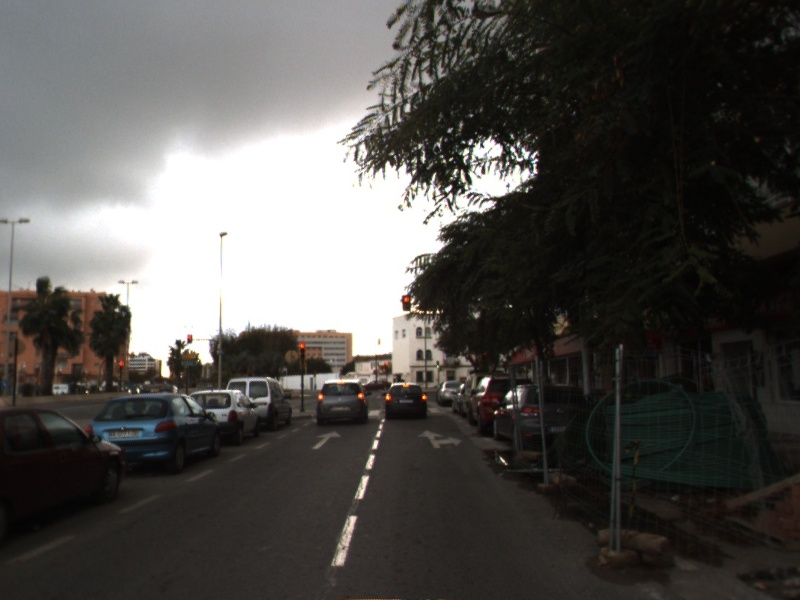STRAIGHT: (311, 430, 342, 450)
STRAIGHT_RIGHT: (416, 428, 463, 450)
